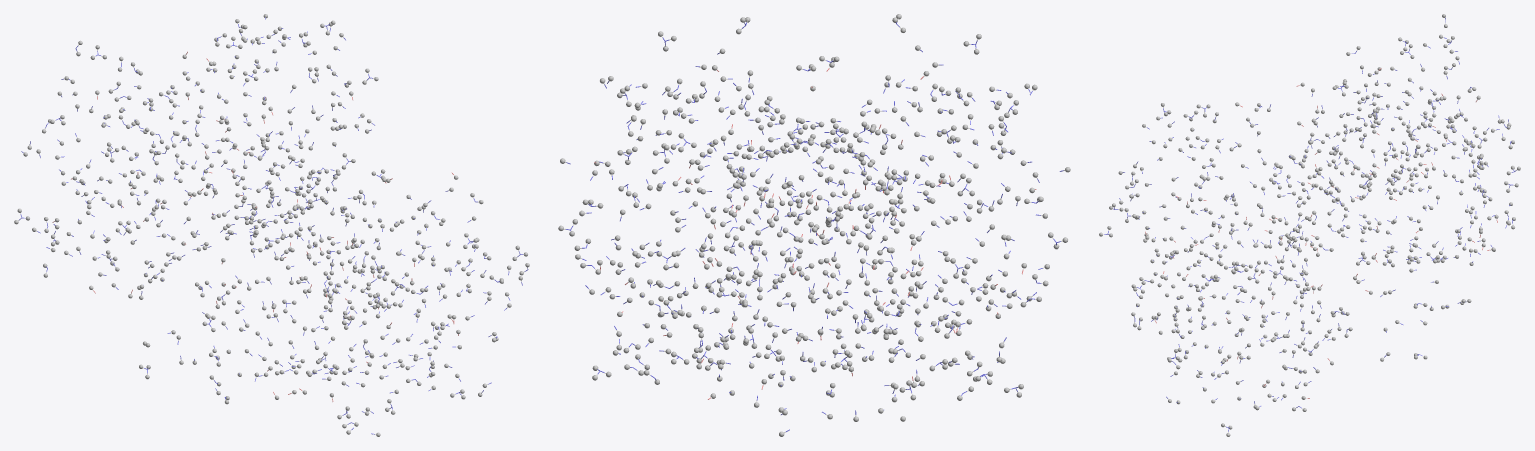
The model's file is 1gfl__ball_and_stick__default__H.glb.
3 views of the same model, side by side, from view 1: azimuth 30°, elevation 25°; view 2: azimuth 150°, elevation 25°; view 3: azimuth 270°, elevation 25° (orthographic). The views are drawn at different scales.
Parts seen in each view (by area): view 1: Renderer Node; view 2: Renderer Node; view 3: Renderer Node.
Part boxes in pixels (<box>): Renderer Node: <box>14,14,529,436</box>; Renderer Node: <box>558,14,1070,436</box>; Renderer Node: <box>1099,14,1520,436</box>.
Size of the model in its own units: 63.02 by 52.63 by 62.2.
